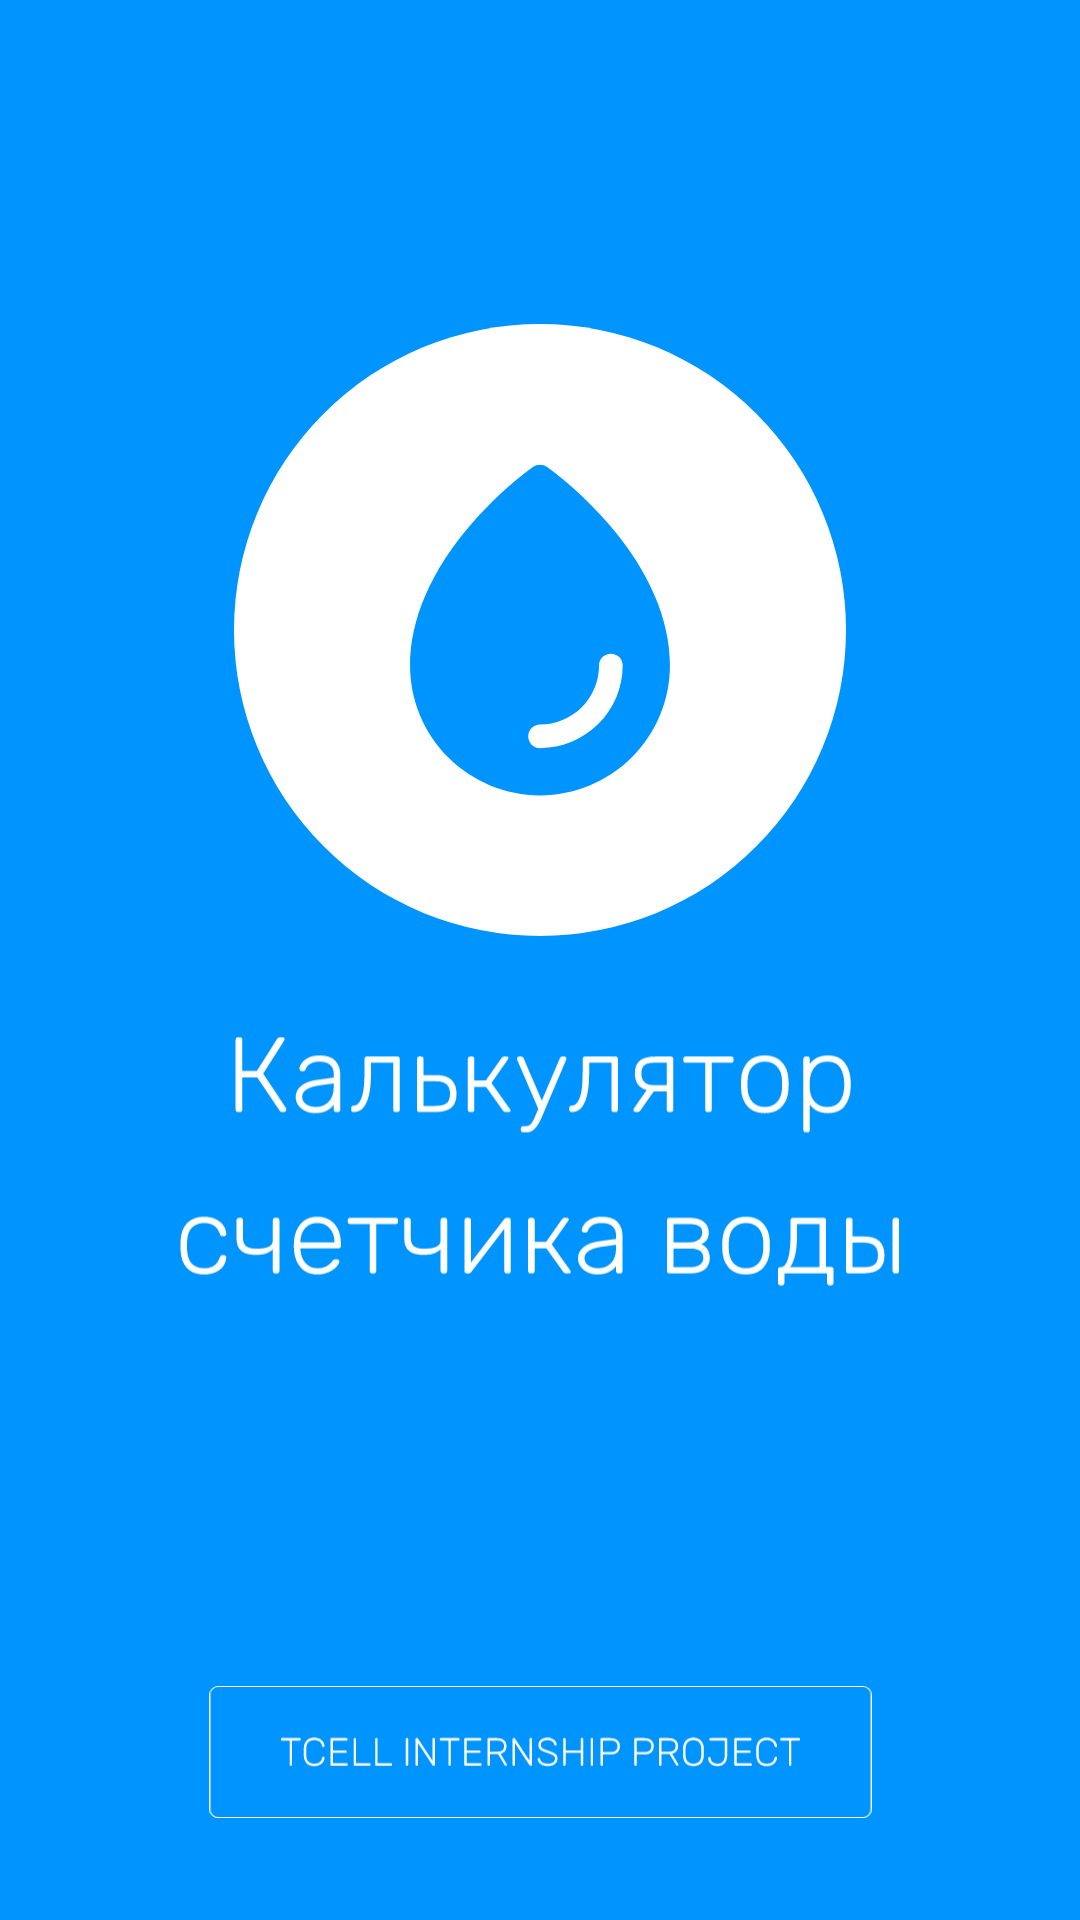

Where to tap for icons on this 1080×1920 app screen, as point (x, y):
waterdrop: point (540, 630)
